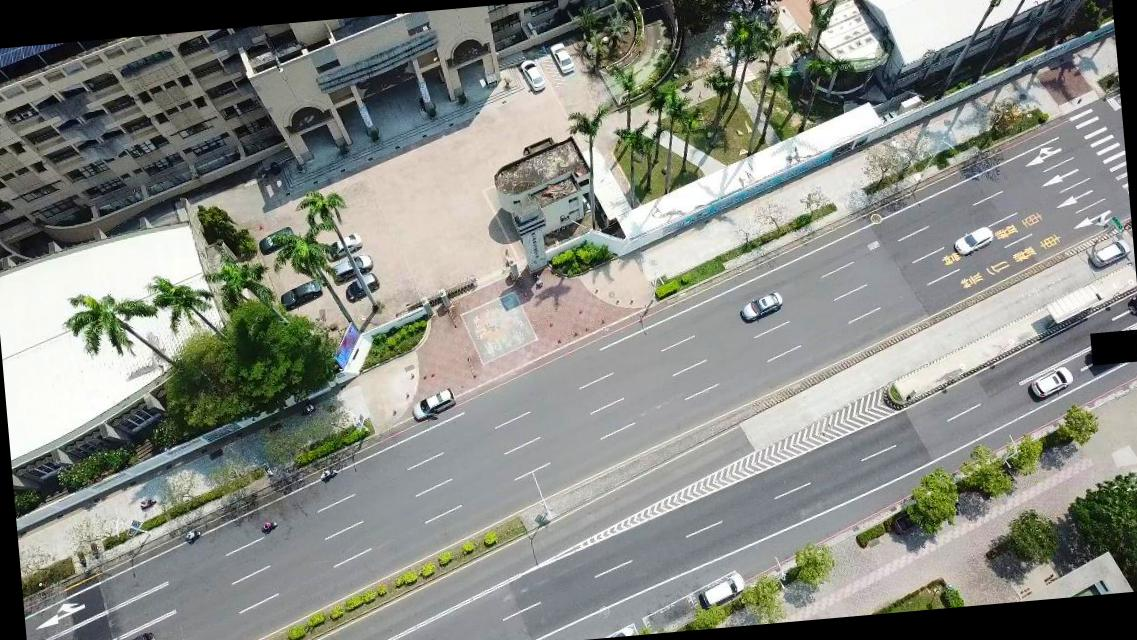vehicle: (699, 572, 746, 608), (410, 387, 458, 422), (1030, 365, 1075, 398), (328, 253, 374, 284), (280, 278, 323, 310), (1088, 238, 1132, 269), (739, 292, 784, 322), (258, 226, 297, 256), (323, 233, 363, 262), (952, 226, 993, 254), (344, 272, 380, 302), (519, 59, 547, 94), (548, 40, 575, 76), (106, 631, 157, 639)
